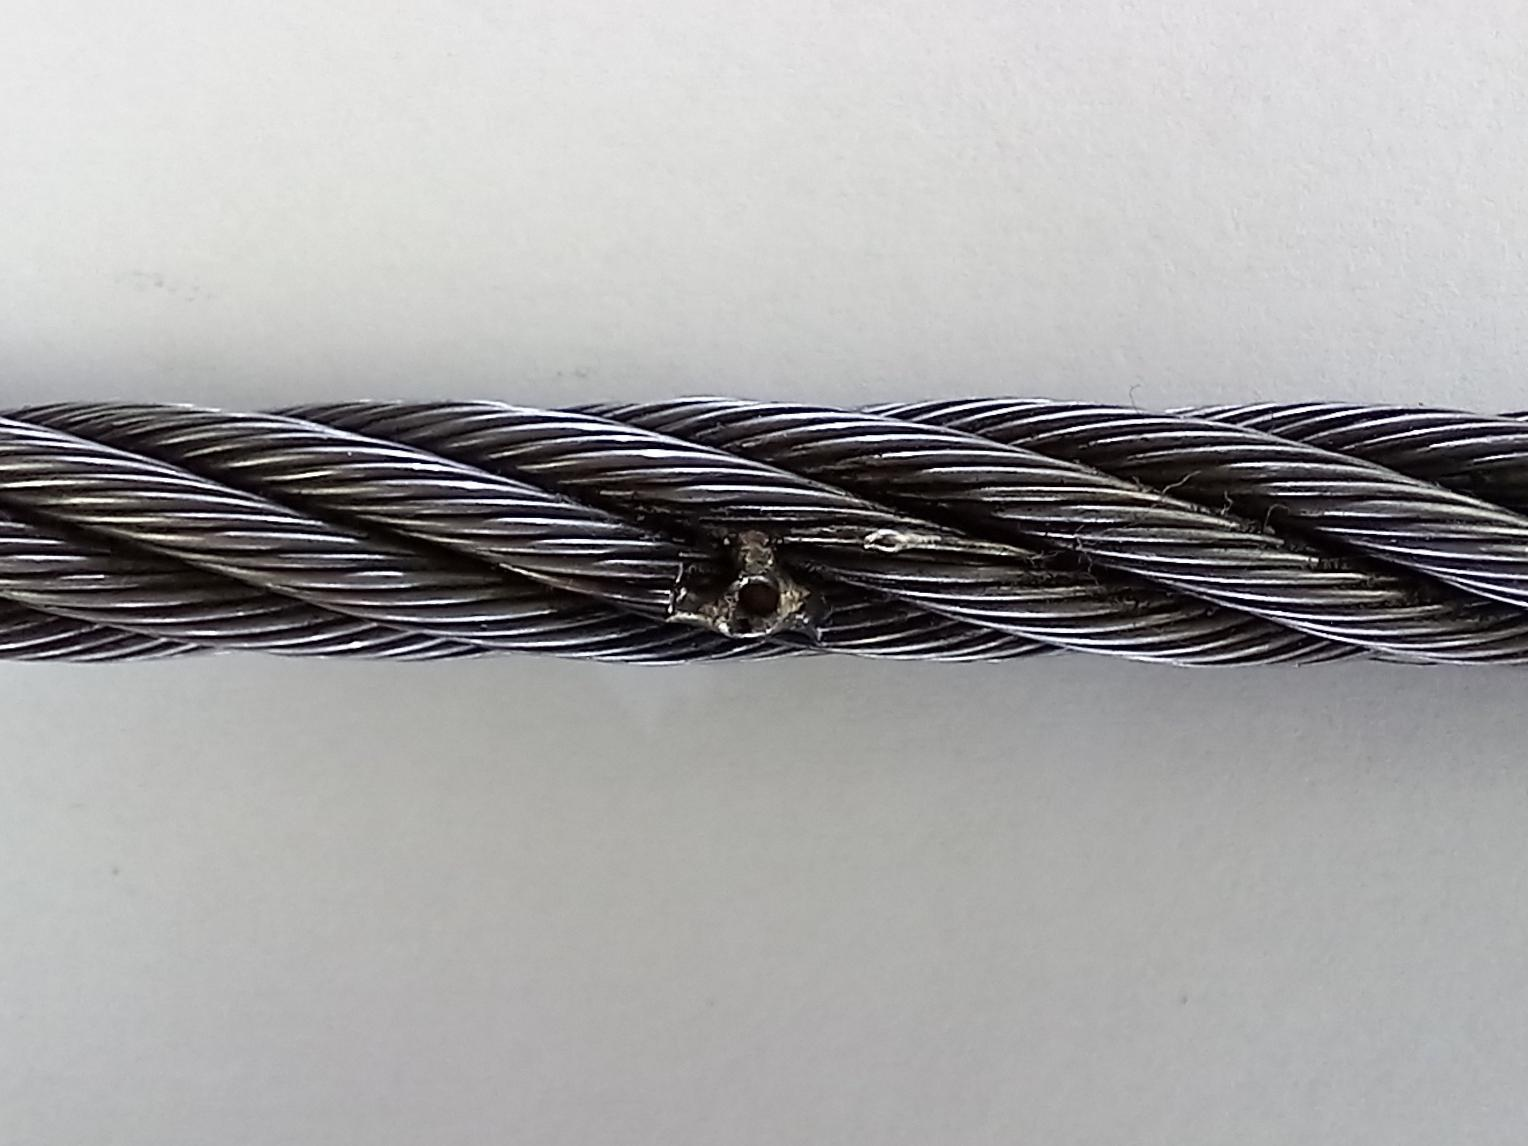thunderbolt: (624, 501, 948, 640)
